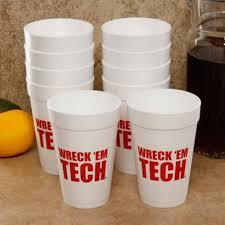Plastic cup: (17, 5, 209, 218)
